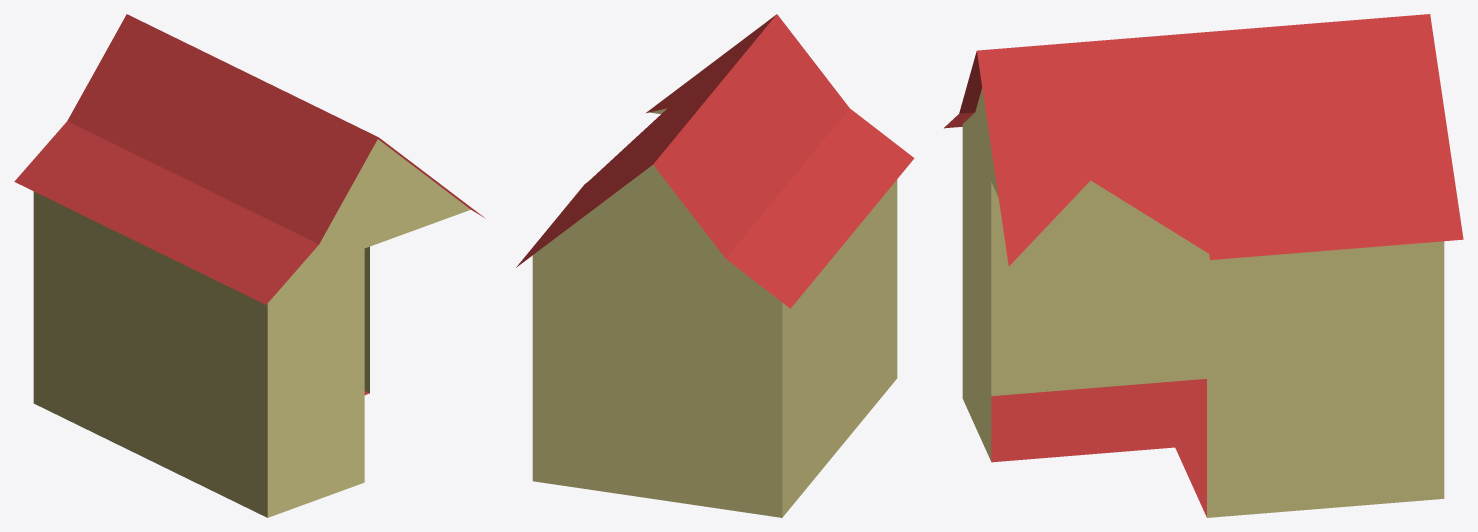
3 renders of one model, left to right at view 1: azimuth 30°, elevation 25°; view 2: azimuth 150°, elevation 25°; view 3: azimuth 270°, elevation 25°, orthographic. The views are drawn at different scales.
Bounding box in the file's own units: 13.05 × 15.82 × 13.97.
